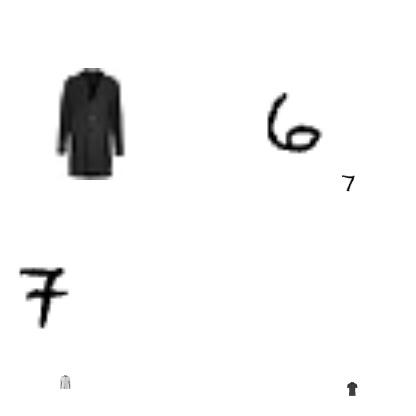6: (247, 87, 331, 171)
7: (2, 247, 86, 331), (338, 170, 360, 192)
Coat: (32, 68, 144, 180)
Shirt: (58, 375, 72, 389)
T-shirt/top: (345, 382, 359, 396)
